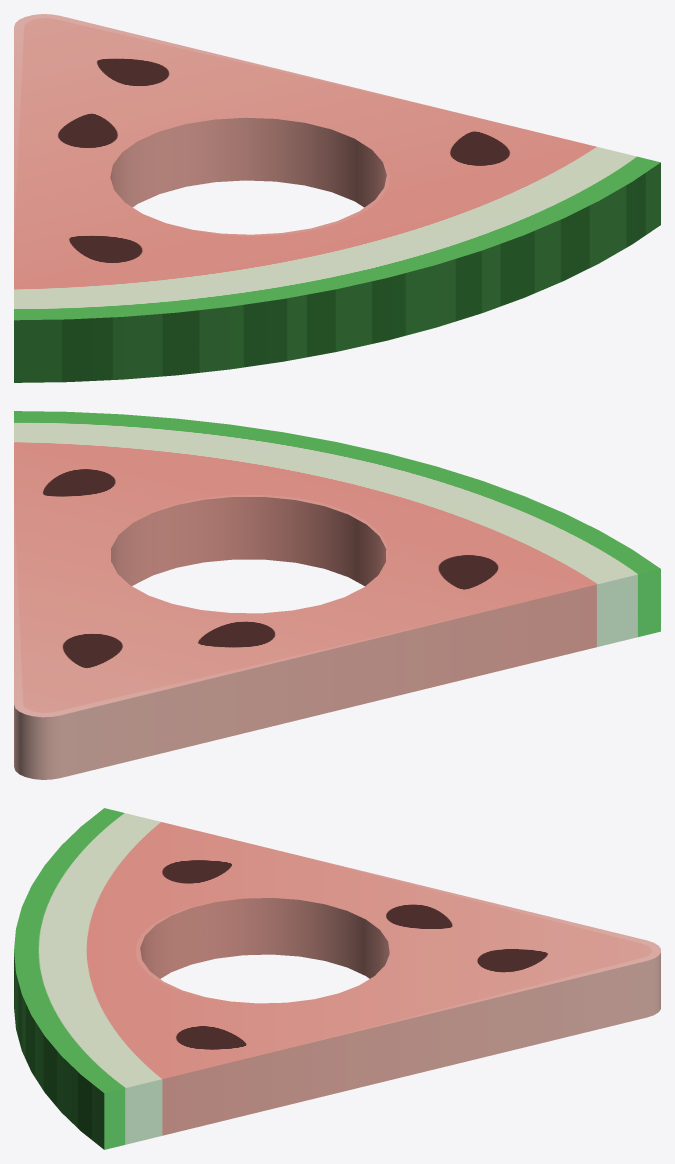
The model's file is Watermelon.FBX.
3 views of the same model, one above another, from view 1: azimuth 30°, elevation 25°; view 2: azimuth 150°, elevation 25°; view 3: azimuth 270°, elevation 25° (orthographic). The views are drawn at different scales.
Visible parts, largest first — view 1: Watermelon; view 2: Watermelon; view 3: Watermelon.
Boxes of the visible parts, x1,y1,x2,y2 form: Watermelon: (14,14,660,382); Watermelon: (14,411,660,779); Watermelon: (14,808,660,1149).
Size of the model in its own units: 75.59 by 7 by 72.45.
1 material, 1 textured.
